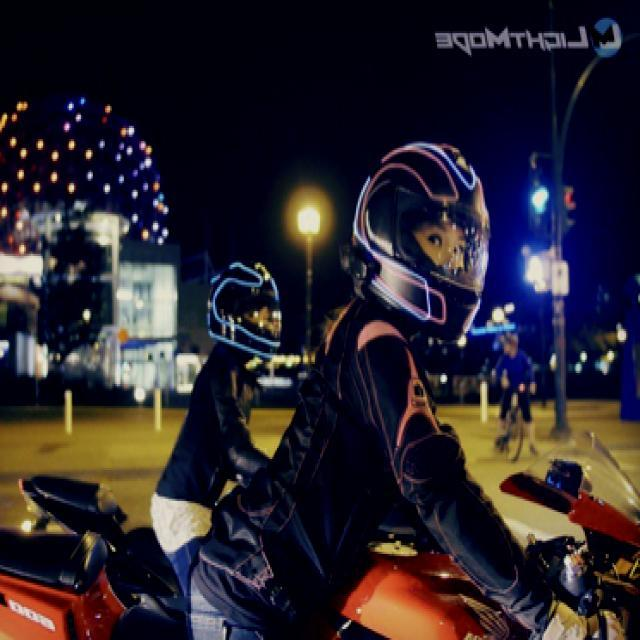Helmet: (348, 136, 496, 338), (206, 256, 282, 355)
